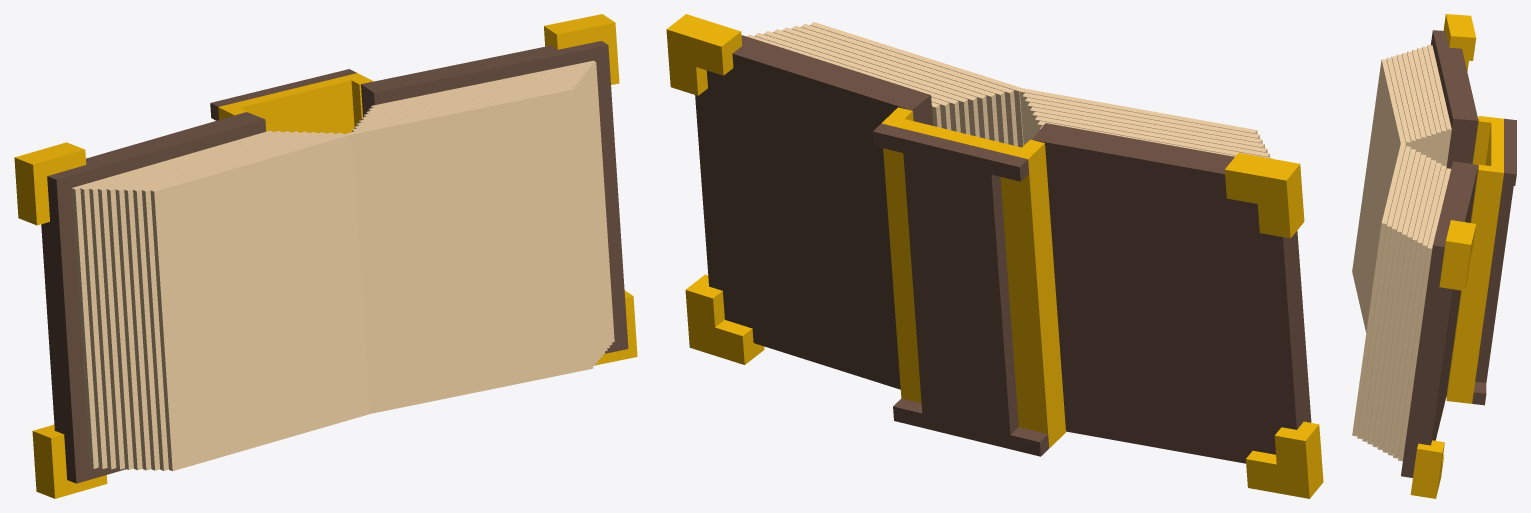
File: book-new.glb
3 views of the same model, side by side, from view 1: azimuth 30°, elevation 25°; view 2: azimuth 150°, elevation 25°; view 3: azimuth 270°, elevation 25° (orthographic). The views are drawn at different scales.
Visible parts, largest first — view 1: Mesh_37, Mesh_27, Mesh_8, Mesh_13, Mesh_3, Mesh_23, Mesh_19, Mesh_20, Mesh_24, Mesh_18, Mesh_21, Mesh_22 (+16 smaller); view 2: Mesh_8, Mesh_13, Mesh_7, Mesh_3, Mesh_10, Mesh_11, Mesh_15, Mesh_17, Mesh_36, Mesh_35, Mesh_34, Mesh_33 (+11 smaller); view 3: Mesh_13, Mesh_3, Mesh_27, Mesh_8, Mesh_7, Mesh_15, Mesh_37, Mesh_35, Mesh_32, Mesh_33, Mesh_36, Mesh_29 (+15 smaller).
Boxes of the visible parts, bbox=[...] form: Mesh_37: bbox=[350, 87, 593, 413]; Mesh_27: bbox=[150, 133, 370, 471]; Mesh_8: bbox=[41, 112, 266, 483]; Mesh_13: bbox=[361, 41, 628, 353]; Mesh_3: bbox=[218, 73, 373, 133]; Mesh_23: bbox=[115, 132, 317, 470]; Mesh_19: bbox=[80, 131, 282, 469]; Mesh_20: bbox=[89, 131, 291, 469]; Mesh_24: bbox=[124, 132, 326, 470]; Mesh_18: bbox=[71, 130, 273, 468]; Mesh_21: bbox=[98, 131, 299, 469]; Mesh_22: bbox=[106, 131, 308, 469]; Mesh_8: bbox=[1032, 123, 1311, 463]; Mesh_13: bbox=[695, 35, 933, 389]; Mesh_7: bbox=[873, 123, 1049, 456]; Mesh_3: bbox=[881, 107, 1065, 447]; Mesh_10: bbox=[1224, 153, 1304, 238]; Mesh_11: bbox=[1246, 421, 1323, 498]; Mesh_15: bbox=[666, 14, 742, 95]; Mesh_17: bbox=[685, 274, 764, 364]; Mesh_36: bbox=[801, 24, 1017, 146]; Mesh_35: bbox=[791, 25, 1008, 144]; Mesh_34: bbox=[782, 27, 998, 141]; Mesh_33: bbox=[773, 29, 989, 139]; Mesh_13: bbox=[1401, 161, 1478, 477]; Mesh_3: bbox=[1446, 116, 1503, 403]; Mesh_27: bbox=[1352, 59, 1405, 332]; Mesh_8: bbox=[1431, 30, 1478, 168]; Mesh_7: bbox=[1472, 118, 1516, 405]; Mesh_15: bbox=[1439, 220, 1476, 290]; Mesh_37: bbox=[1352, 143, 1405, 436]; Mesh_35: bbox=[1362, 149, 1415, 441]; Mesh_32: bbox=[1377, 157, 1431, 450]; Mesh_33: bbox=[1372, 154, 1426, 447]; Mesh_36: bbox=[1357, 146, 1410, 438]; Mesh_29: bbox=[1393, 165, 1446, 458].
Bounding box in the file's own units: 2.64 × 1.38 × 0.802.
